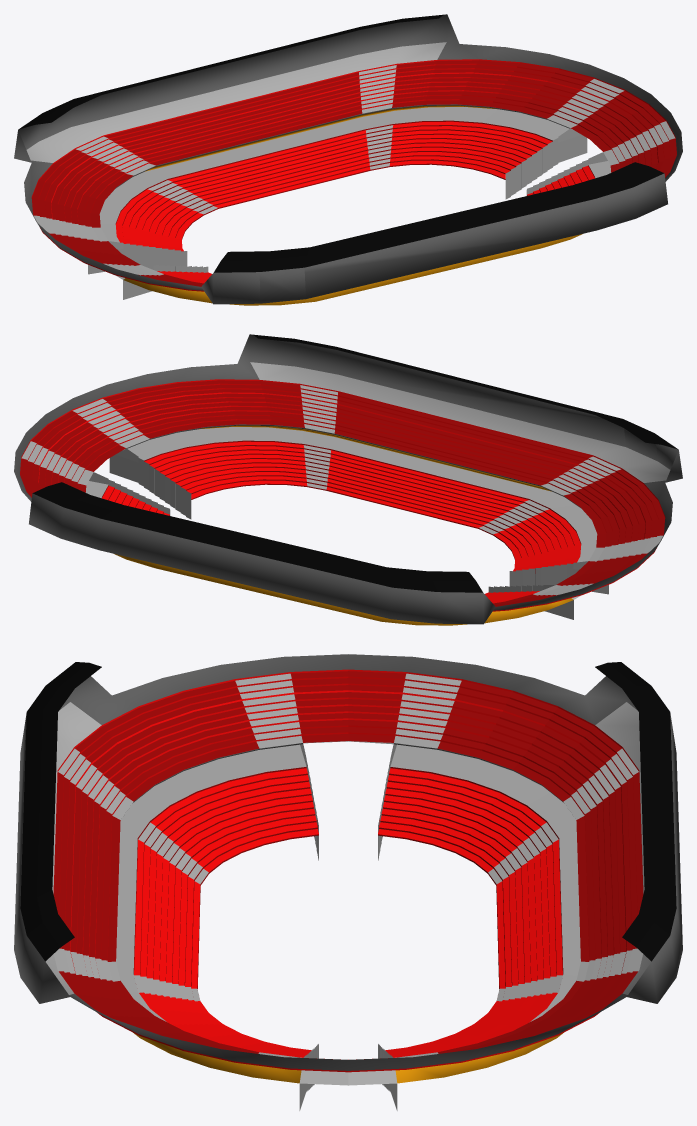
The model's file is ArrowHead_Stadium 1.fbx.
3 views of the same model, one above another, from view 1: azimuth 30°, elevation 25°; view 2: azimuth 150°, elevation 25°; view 3: azimuth 270°, elevation 25° (orthographic). The views are drawn at different scales.
Parts seen in each view (by area): view 1: Stadium; view 2: Stadium; view 3: Stadium.
Part boxes in pixels (x1,y1,x2,y2): Stadium: (14,14,682,305); Stadium: (14,334,682,625); Stadium: (14,654,682,1110).
Bounding box in the file's own units: 48467 × 8772 × 33776.
